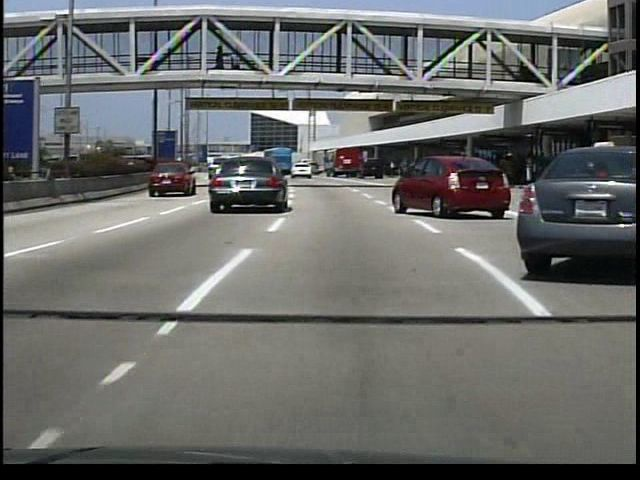person: (216, 45, 231, 73)
